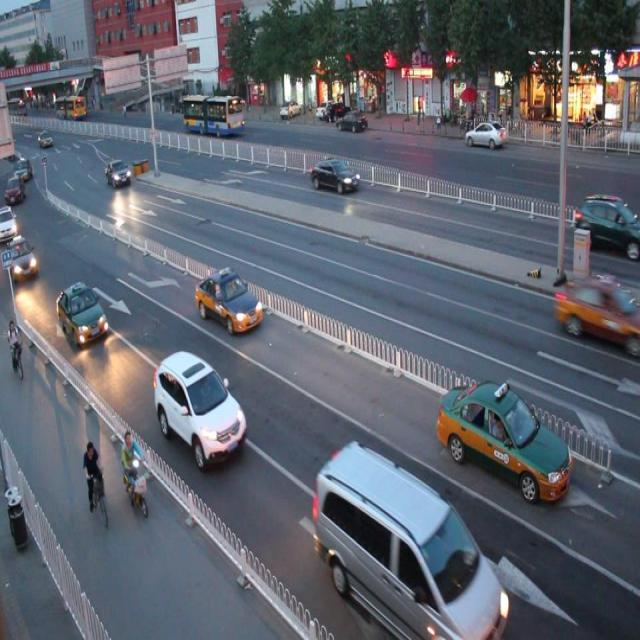car: (314, 436, 505, 640), (435, 374, 569, 498), (152, 350, 245, 469), (554, 270, 632, 345), (193, 266, 261, 334), (573, 194, 640, 255), (56, 281, 108, 350), (309, 156, 358, 194)
van: (183, 90, 244, 139)
